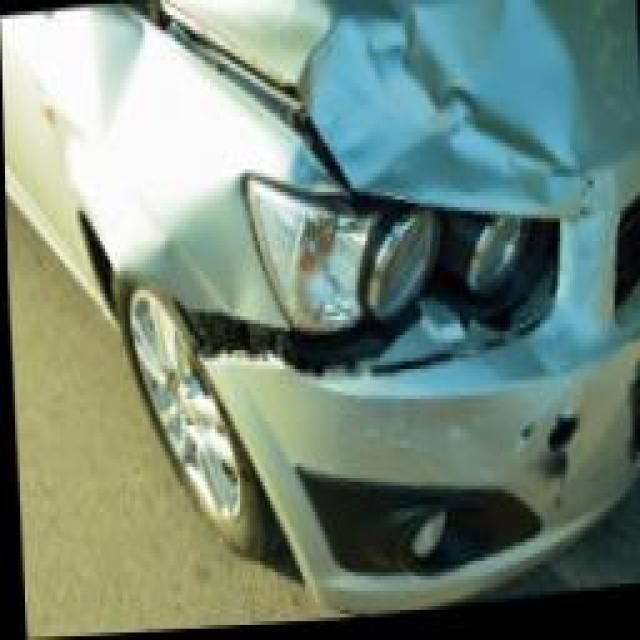Bonnet: (295, 0, 593, 225)
Bumper: (210, 312, 596, 596)
Fender: (65, 26, 236, 295)
Light: (262, 188, 559, 369)
